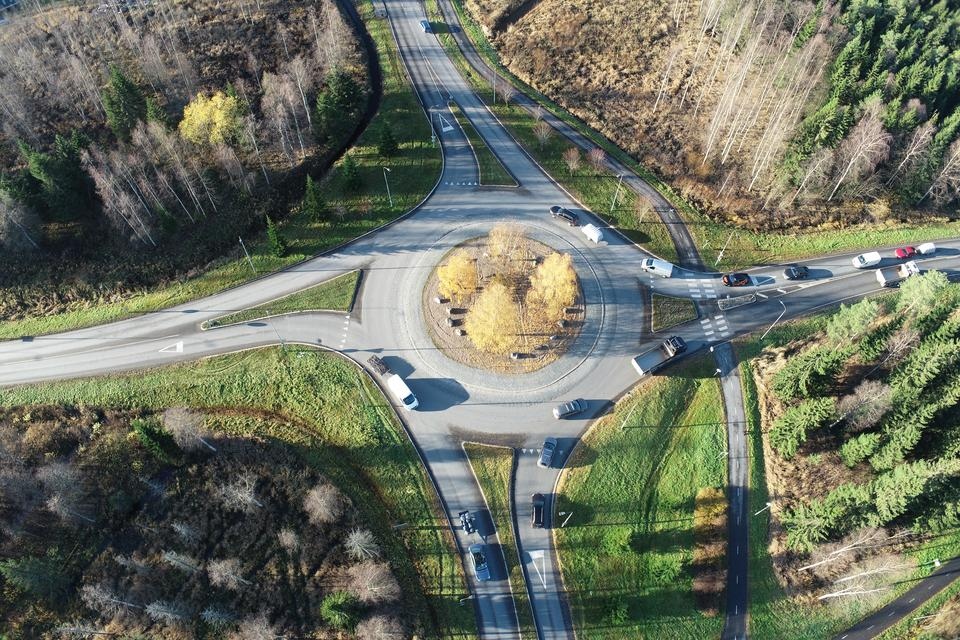intersection: (672, 246, 760, 370)
roundabout: (318, 173, 666, 465)
